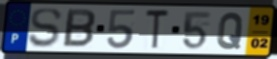5: (105, 9, 138, 51), (182, 10, 214, 51)
B: (61, 7, 98, 49)
Q: (215, 11, 246, 51)
S: (27, 7, 64, 49)
T: (144, 8, 171, 51)
